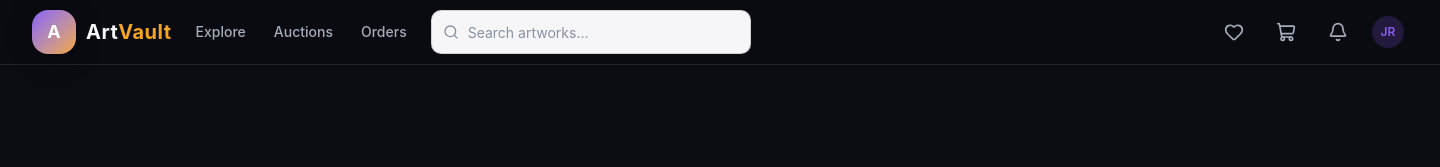
Test: AppTopBar — auth controls (regression coverage) › shows an account menu with Account and Sign Out for a signed-in CUSTOMER, and no Seller Studio/Admin link
This screenshot has width=1440, height=167.
Click the button with aria-label "Account menu".
click(1388, 32)  # box left=1368, top=12, right=1408, bottom=52
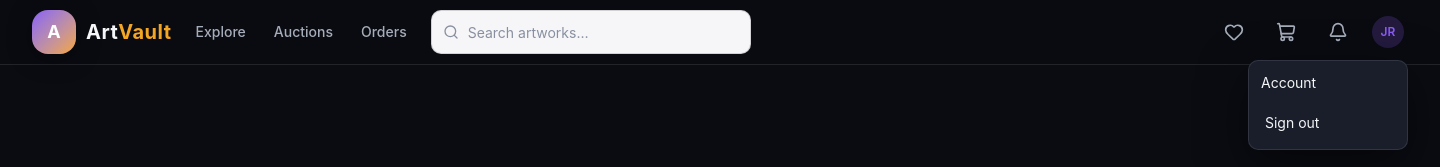
Expected: the button "Sign out" is shown, left=1253, top=105, right=1403, bottom=141
